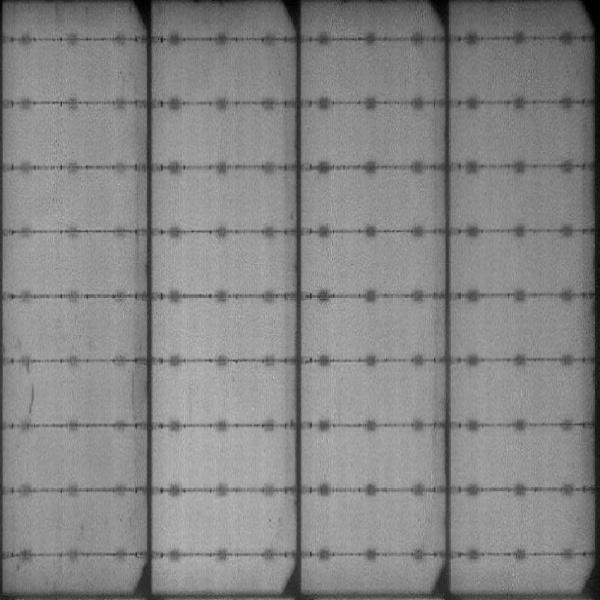scratch: (19, 349, 35, 418)
